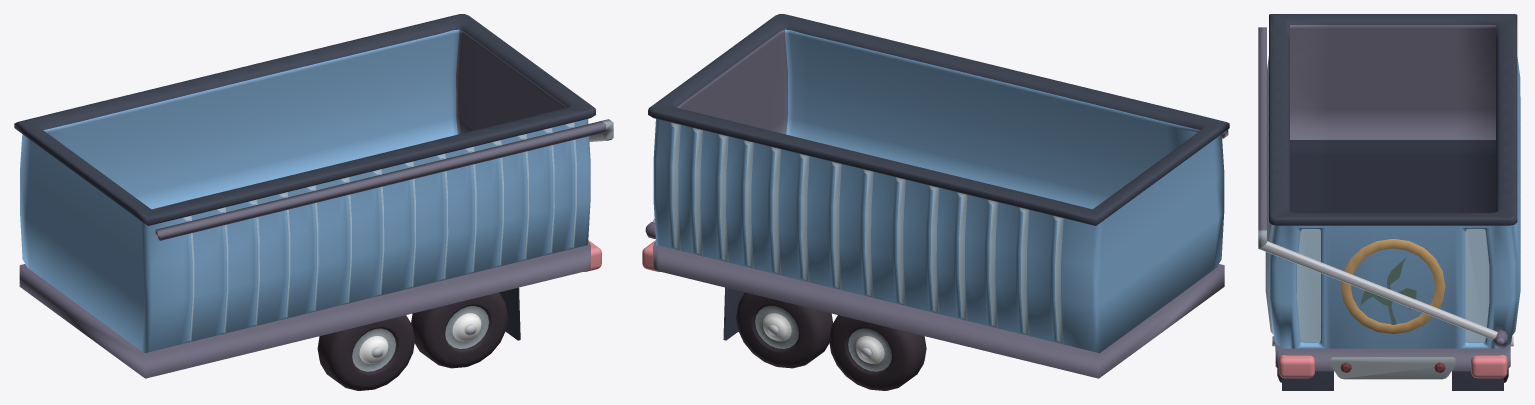
The model's file is Truck.fbx.
3 views of the same model, side by side, from view 1: azimuth 30°, elevation 25°; view 2: azimuth 150°, elevation 25°; view 3: azimuth 270°, elevation 25° (orthographic). The views are drawn at different scales.
Visible parts, largest first — view 1: TruckBack; view 2: TruckBack; view 3: TruckBack.
Boxes of the visible parts, x1,y1,x2,y2 form: TruckBack: (14,14,613,390); TruckBack: (642,14,1229,390); TruckBack: (1258,14,1520,390).
Bounding box in the file's own units: 229 × 111 × 121.
